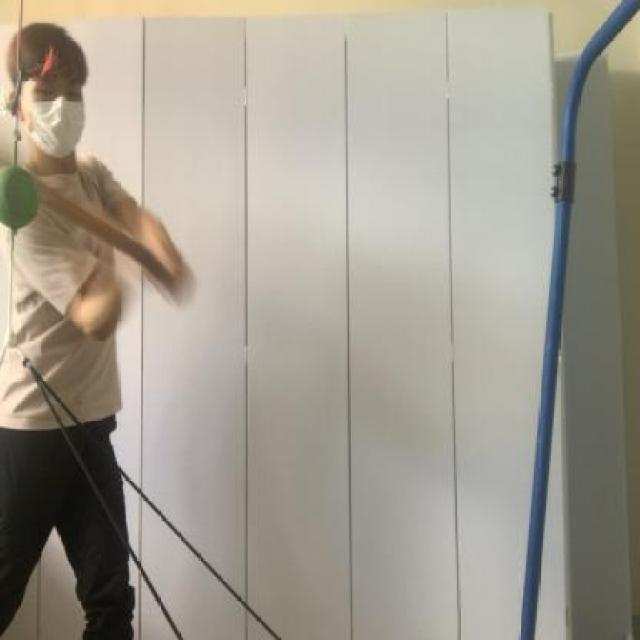baseball: (0, 158, 43, 228)
